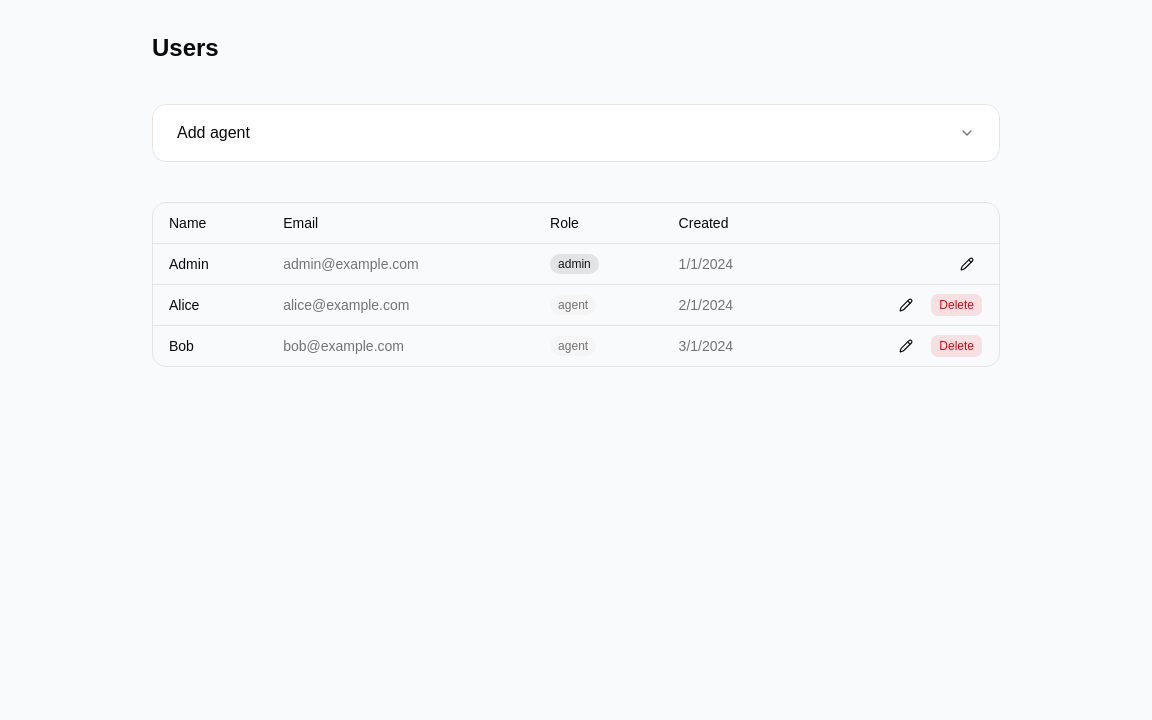
Test: UsersPage › user list › removes a user from the list after deletion
This screenshot has width=1152, height=720.
expect the text "Alice" is shown: met, box [153,284,267,325]
Click the button "Delete" in the row of "alice@example.com" at x=957, y=304, box [930,292,983,316]
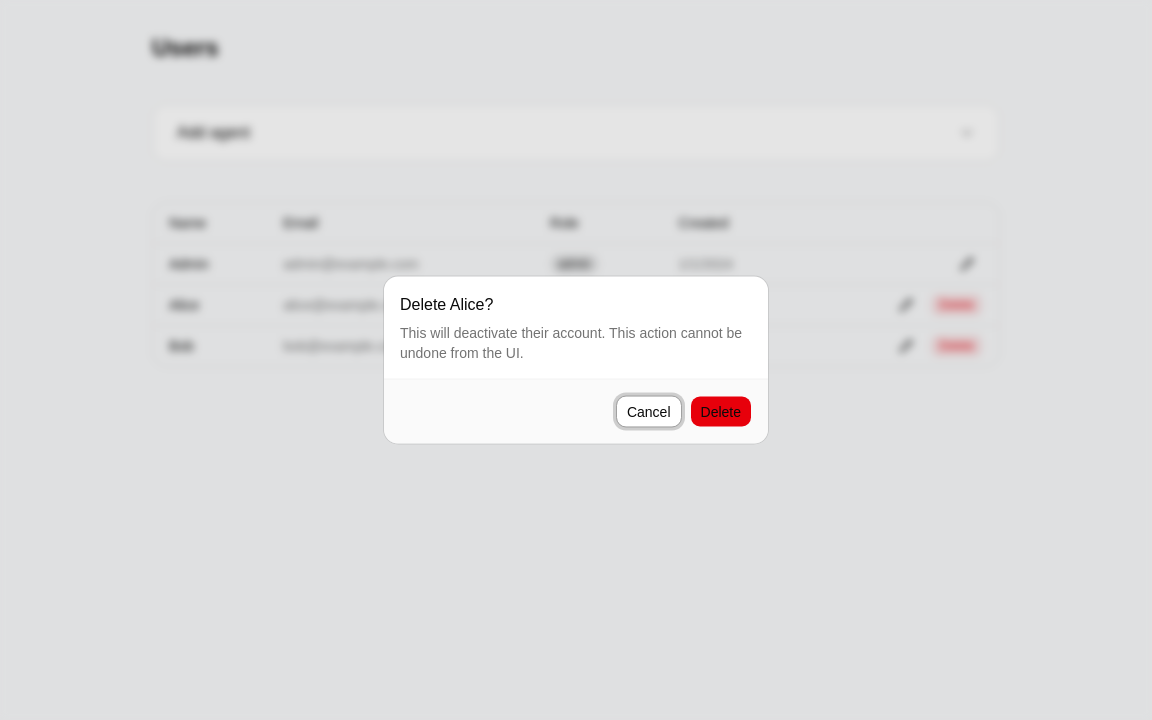
Click the button "Delete" at x=721, y=412, box [690,396,752,428]
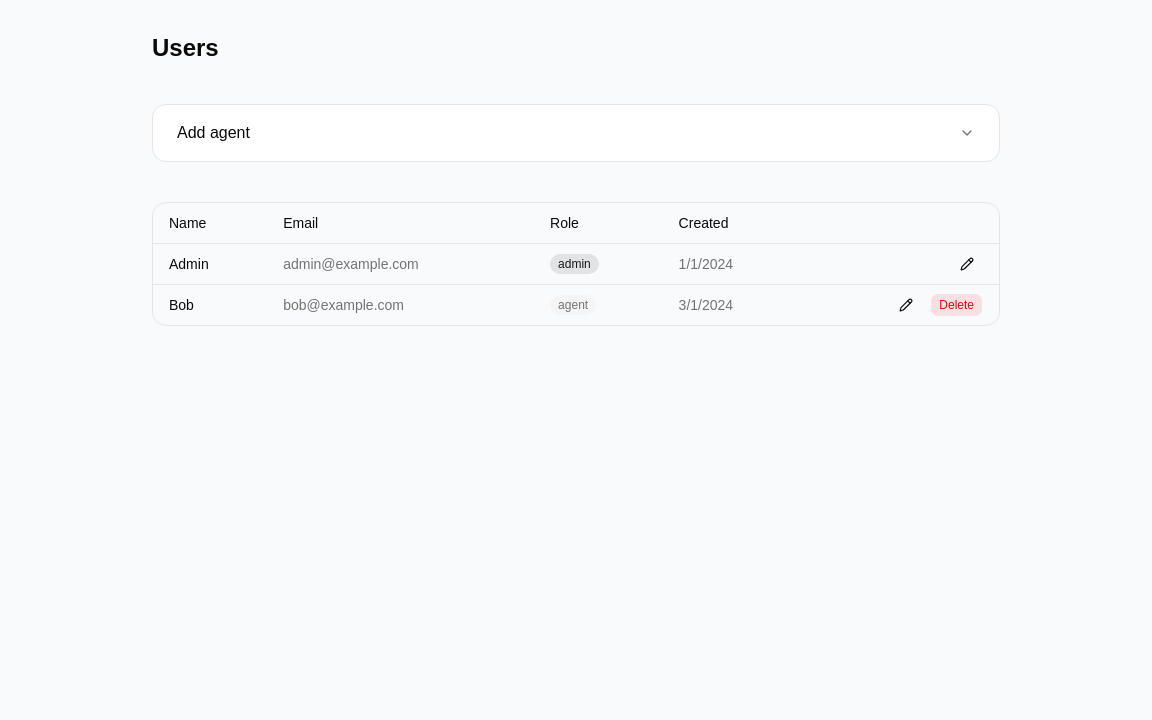
expect the text "Alice" is gone: met
